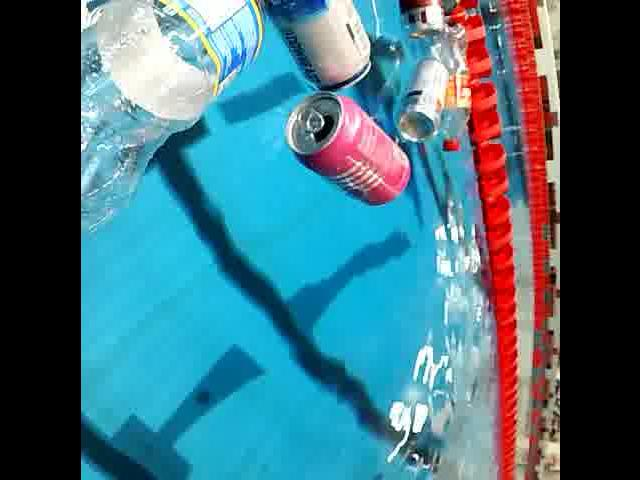Bottle: (80, 0, 288, 248), (427, 17, 473, 158)
Can: (281, 84, 413, 216), (244, 0, 376, 101), (392, 50, 448, 146), (388, 0, 446, 44), (433, 0, 461, 18)
